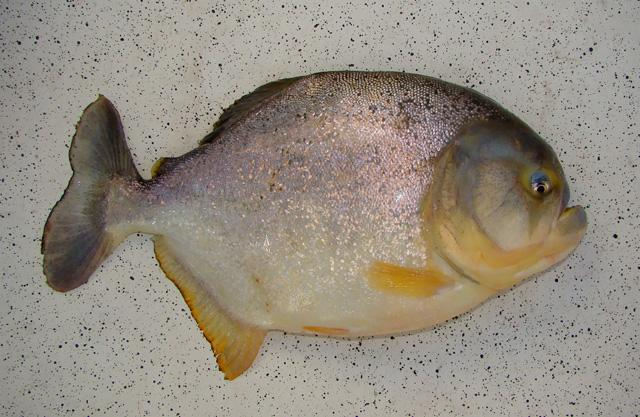Mulut: (526, 148, 612, 266)
Sirip Anal: (140, 228, 274, 394)
Sirip Dada: (354, 248, 471, 314)
Sirip Ekor: (26, 80, 148, 312)
Sirip Perut: (295, 308, 361, 364)
Sirip Punggung: (142, 65, 314, 197)
